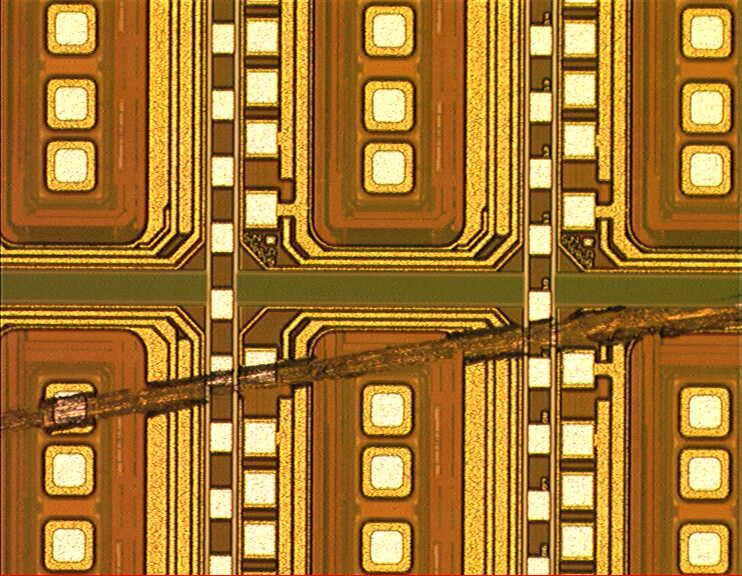SCRATCH: (1, 285, 742, 449)
